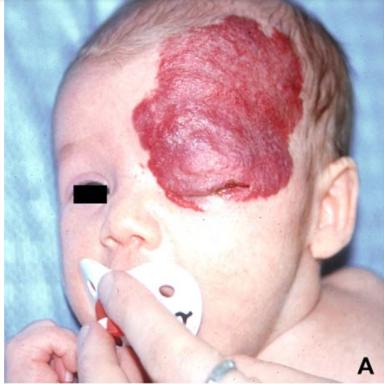Hemangiome: (133, 16, 302, 210)
